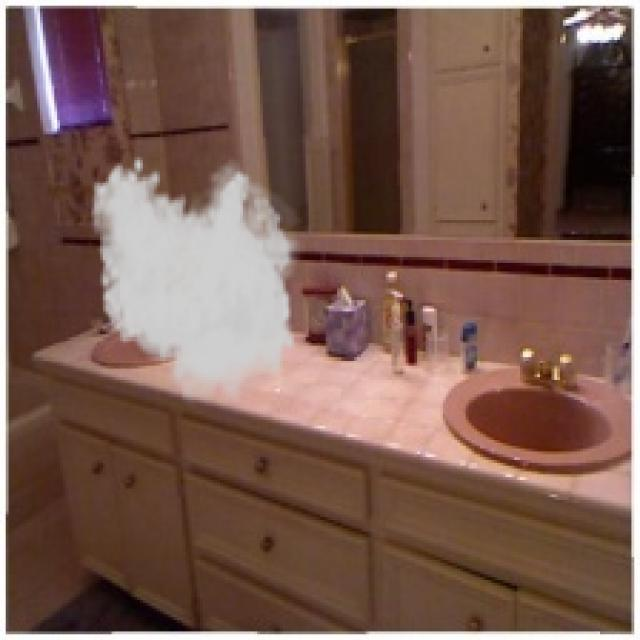smoke: (89, 154, 308, 412)
